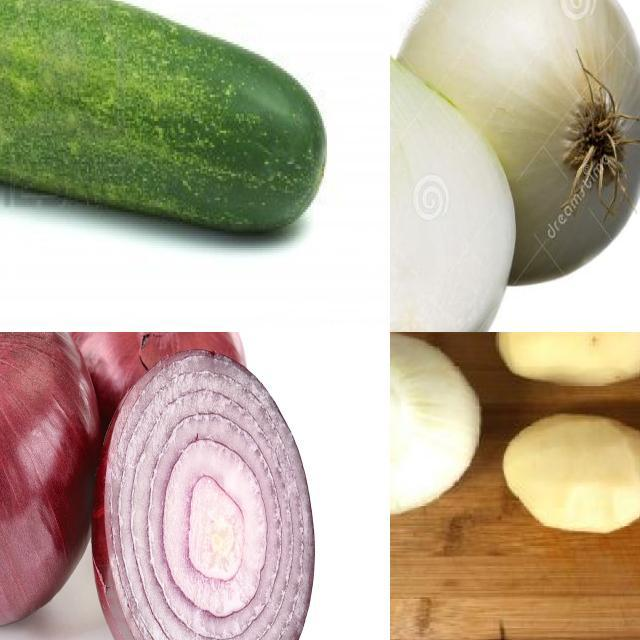cucumber: (1, 1, 328, 245)
onion: (393, 1, 640, 284), (96, 352, 314, 640), (391, 1, 518, 333), (64, 333, 249, 535), (1, 333, 98, 640), (391, 333, 486, 518)
potato: (506, 410, 640, 538), (500, 333, 640, 379)
